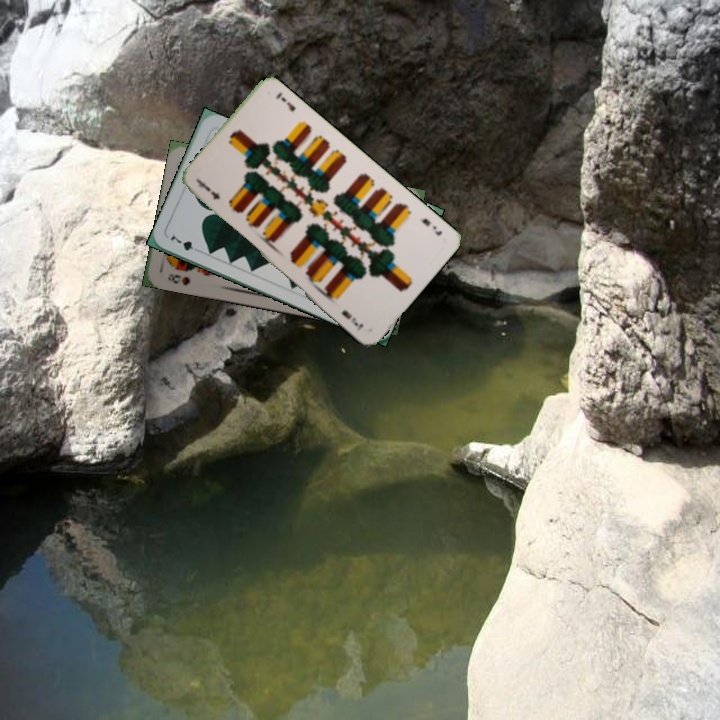E7: (193, 176, 222, 202), (416, 214, 445, 238)
G7: (166, 231, 204, 255)
S8: (164, 270, 193, 288)
